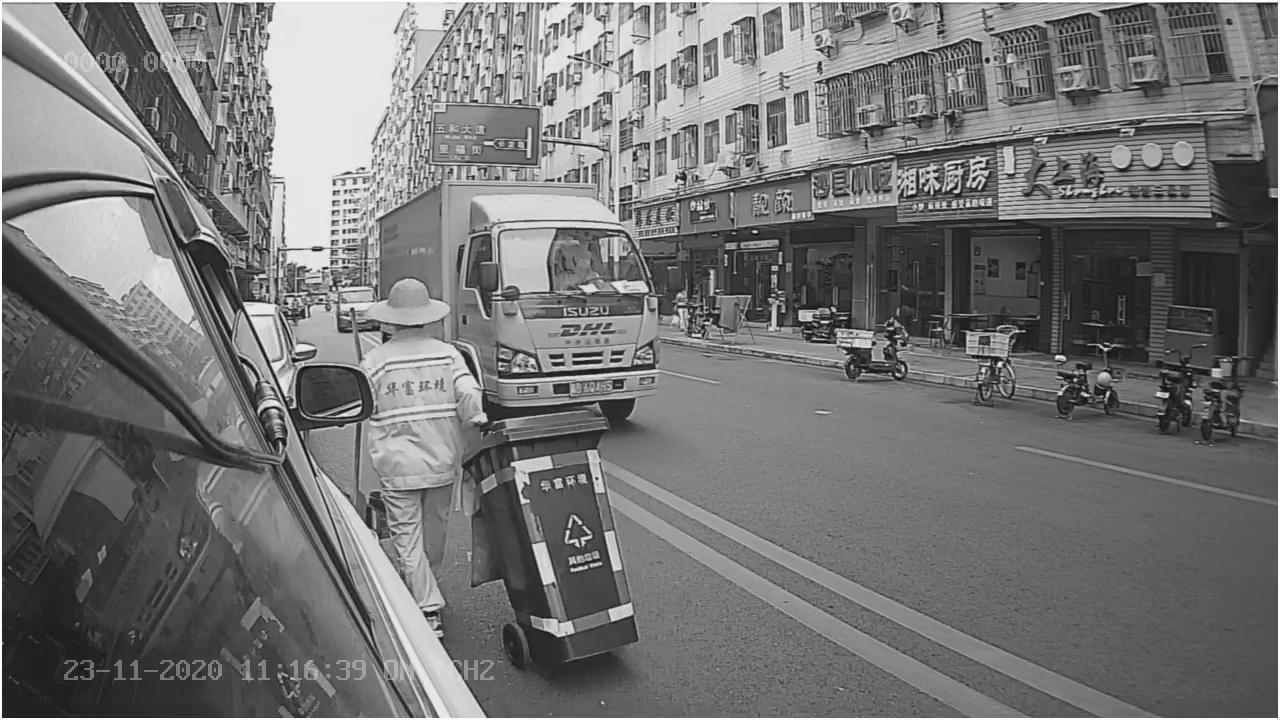person: (360, 270, 491, 441)
